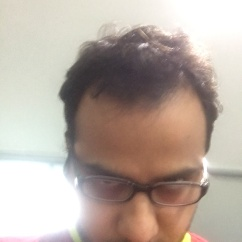glasses: (76, 171, 208, 208)
